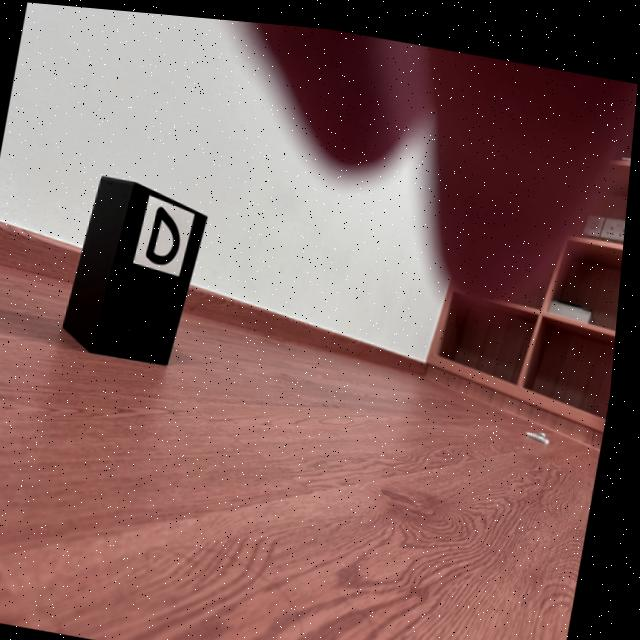D: (150, 203, 184, 261)
